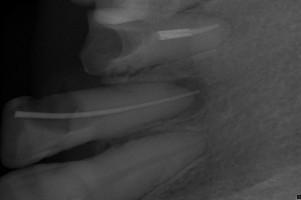Furcation Involvement: (166, 78, 210, 120), (200, 11, 249, 47)
